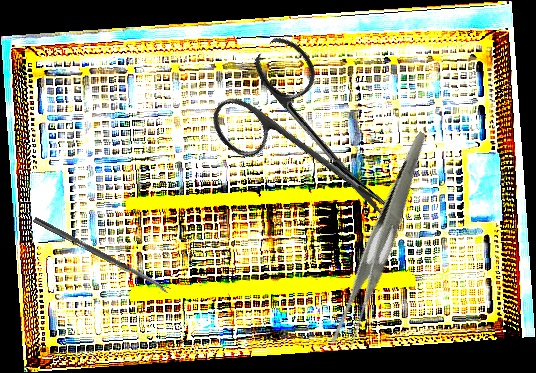Dressing Forceps: (282, 131, 485, 353)
Iris Scissors: (199, 30, 433, 258)
Surgical Spoon: (32, 216, 171, 295)
